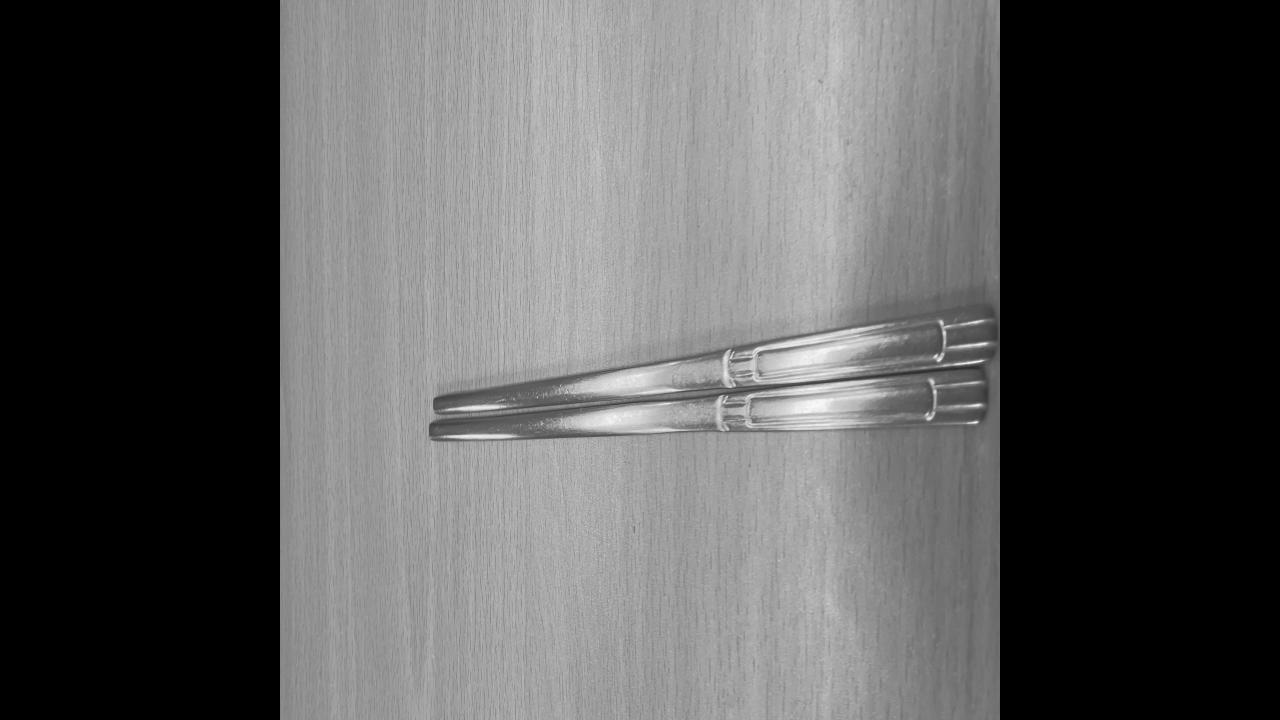chopstick: (430, 308, 992, 437)
